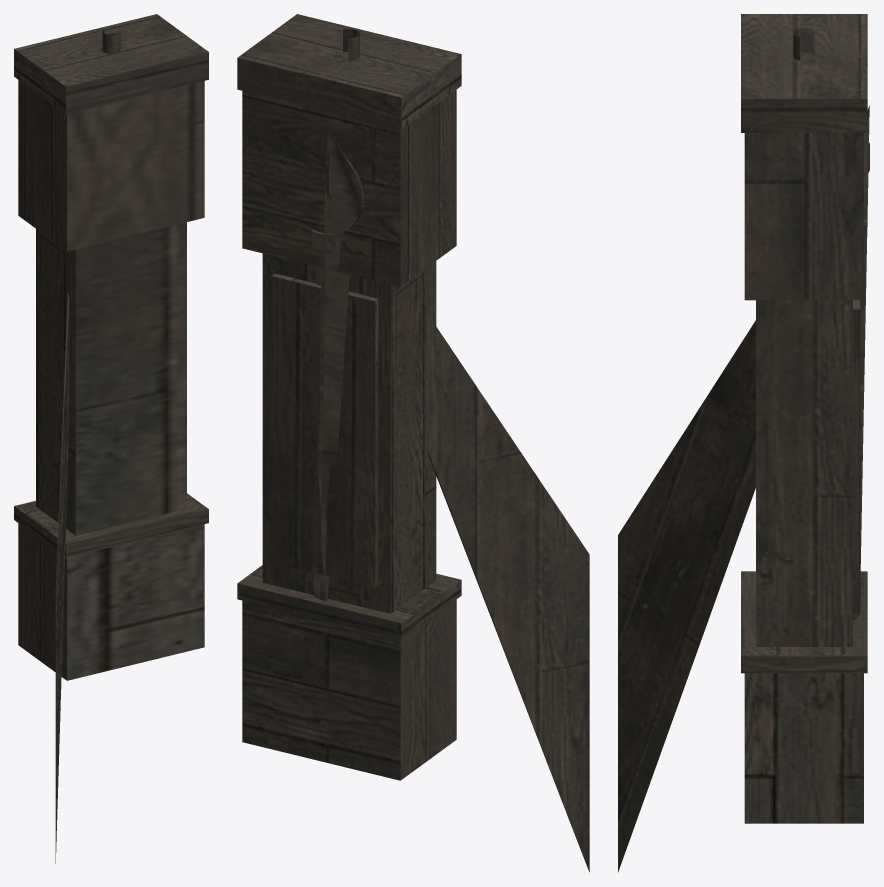
Rendered from SM_Prop_LongcaseClock_01.glb.
The picture shows the model from 3 angles, left to right: view 1: azimuth 30°, elevation 25°; view 2: azimuth 150°, elevation 25°; view 3: azimuth 270°, elevation 25°; orthographic projection. The views are drawn at different scales.
Parts seen in each view (by area): view 1: SM_Prop_LongcaseClock_01; view 2: SM_Prop_LongcaseClock_01; view 3: SM_Prop_LongcaseClock_01.
Boxes of the visible parts, x1,y1,x2,y2 form: SM_Prop_LongcaseClock_01: (14, 14, 208, 863); SM_Prop_LongcaseClock_01: (237, 14, 589, 872); SM_Prop_LongcaseClock_01: (618, 14, 869, 872).
Size of the model in its own units: 0.77 by 2.72 by 0.676.
1 material, 1 textured.
